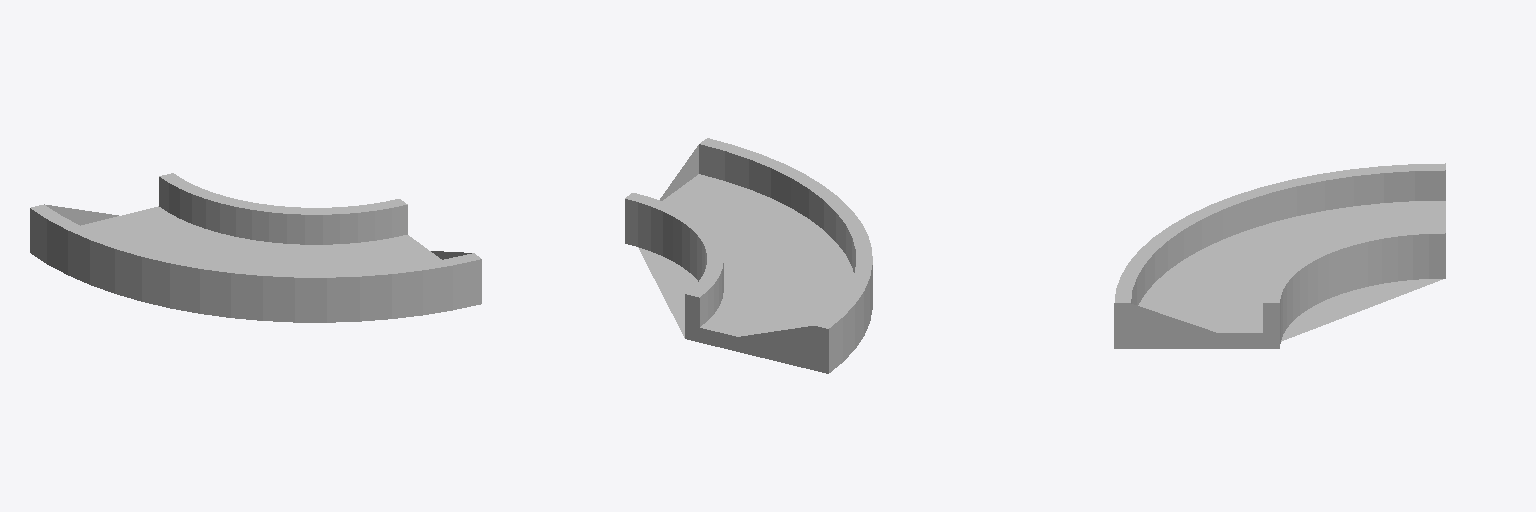
The model's file is CornerLarge.obj.
3 views of the same model, side by side, from view 1: azimuth 30°, elevation 25°; view 2: azimuth 150°, elevation 25°; view 3: azimuth 270°, elevation 25° (orthographic).
Visible parts, largest first — view 1: CornerLarge; view 2: CornerLarge; view 3: CornerLarge.
Boxes of the visible parts, x1,y1,x2,y2 form: CornerLarge: [30, 173, 481, 322]; CornerLarge: [625, 138, 872, 373]; CornerLarge: [1114, 163, 1445, 348].
Size of the model in its own units: 4 by 0.6 by 4.